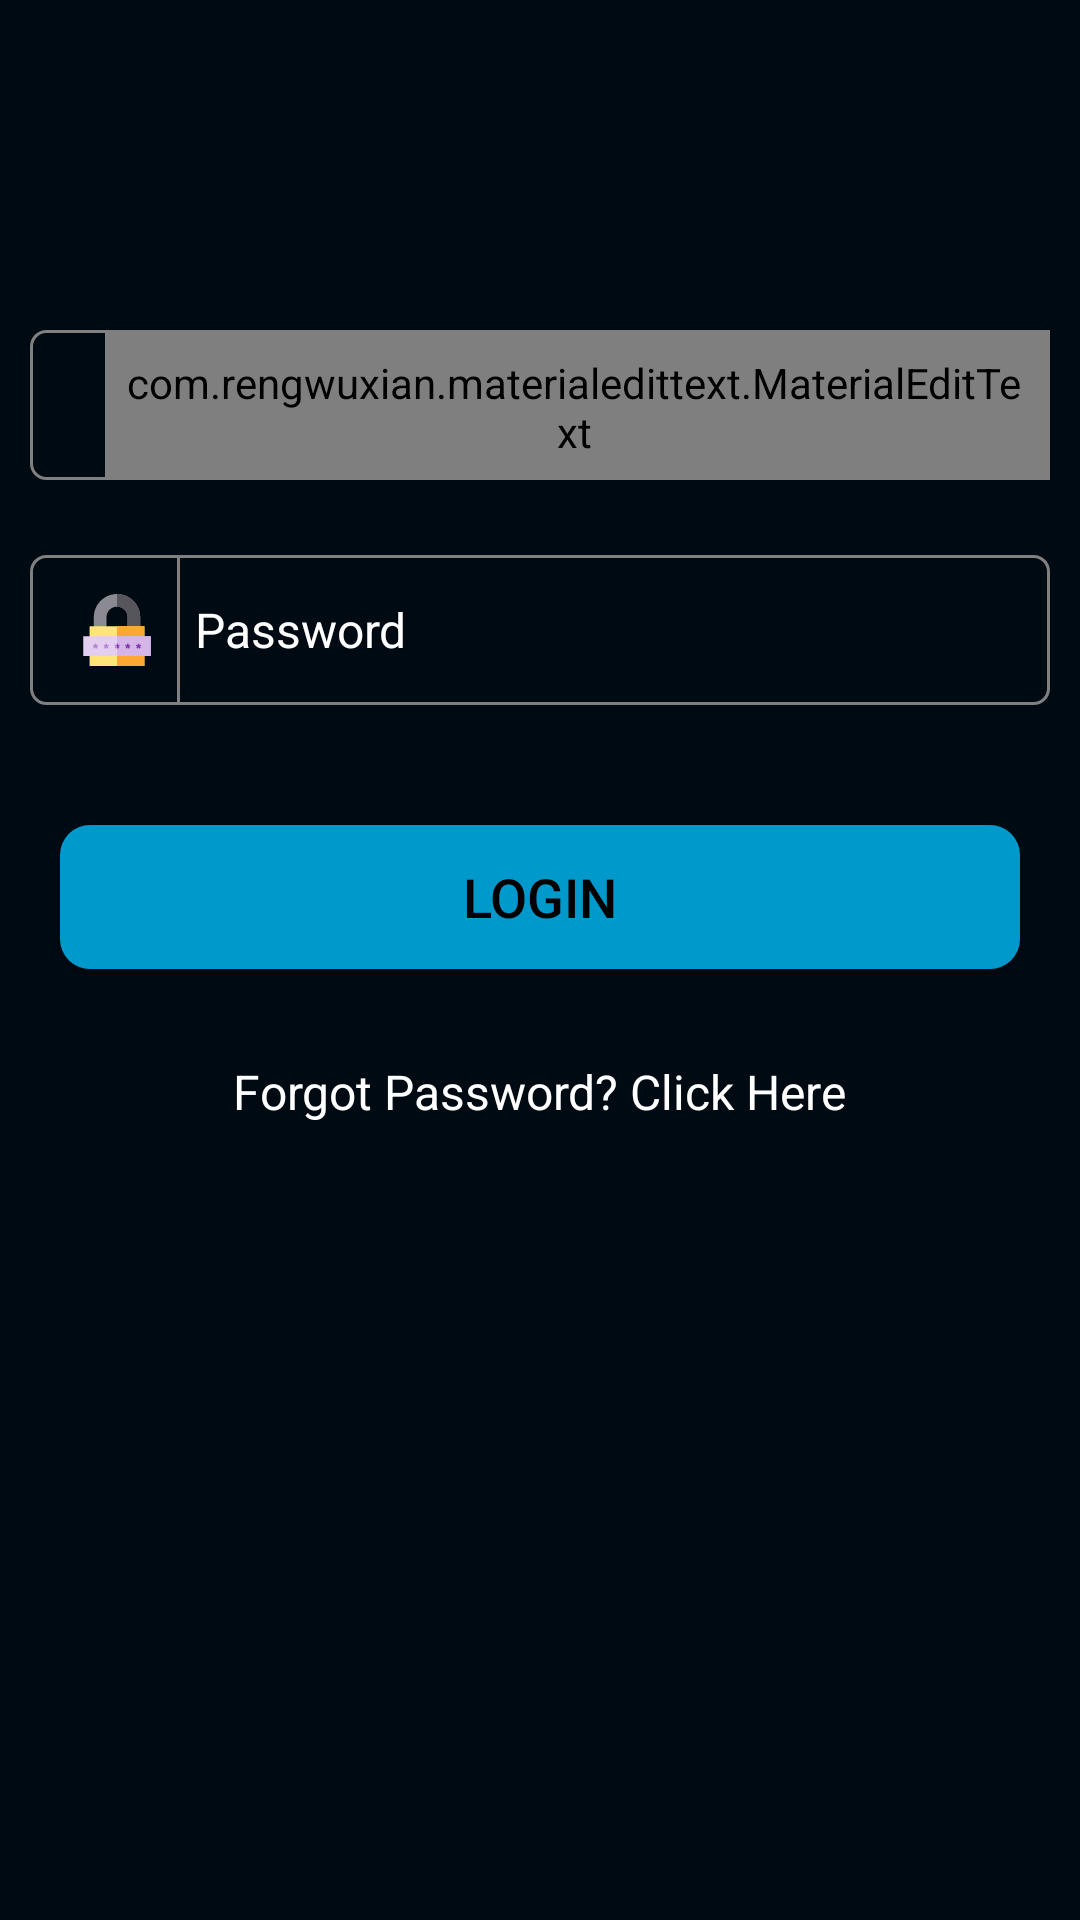

Screen size 1080 x 1920. Icon name, then its center in pixels as (x=x, y=y):
lock: (x=117, y=630)
